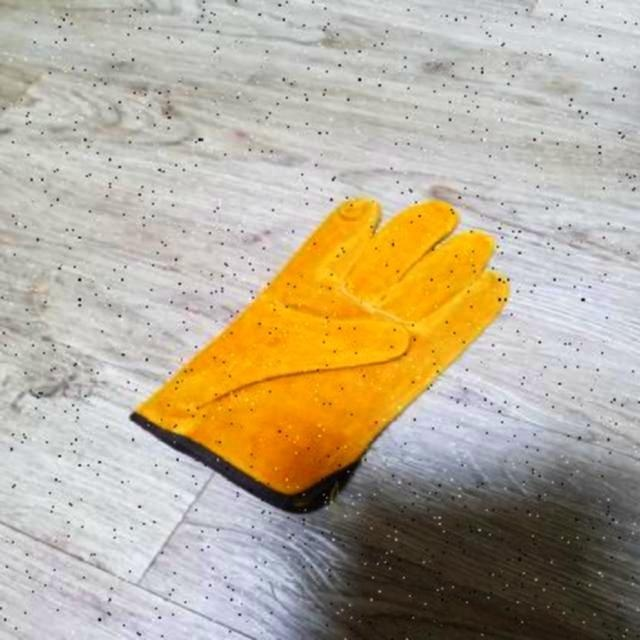Guantes: (128, 193, 510, 515)
